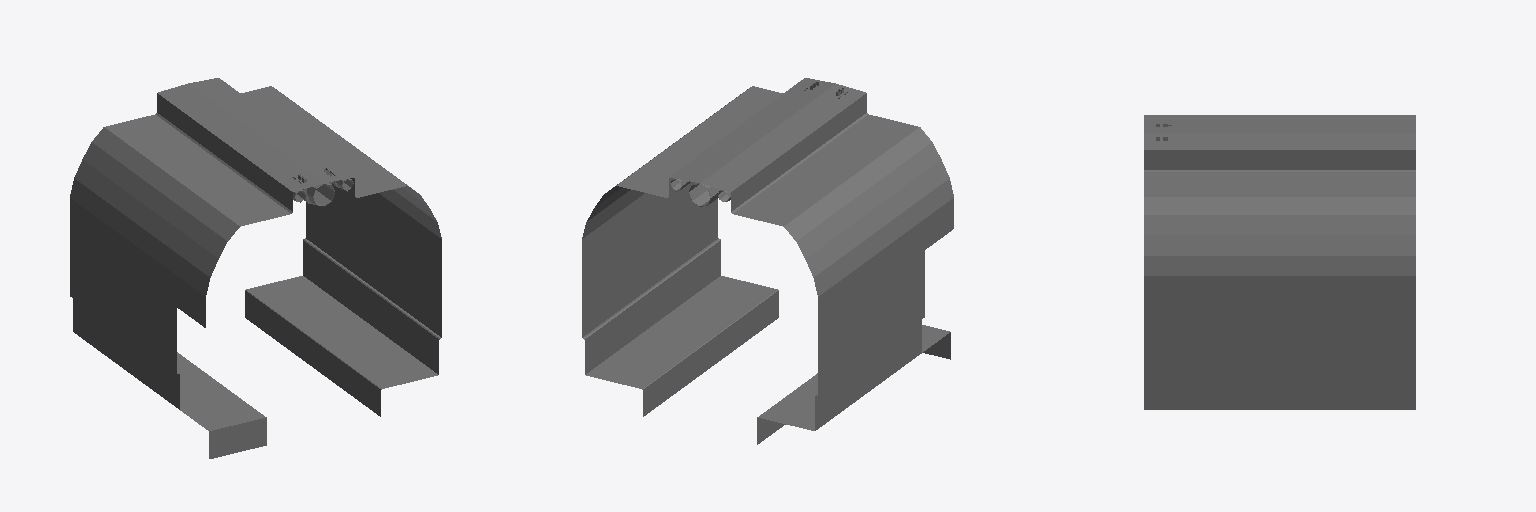
The model's file is ModularSewerStraightDoorHole.obj.
The picture shows the model from 3 angles: view 1: azimuth 30°, elevation 25°; view 2: azimuth 150°, elevation 25°; view 3: azimuth 270°, elevation 25°; orthographic projection.
Parts seen in each view (by area): view 1: ModularSewerStraight:polySurface96 ModularSewerStraight:polySurf, ModularSewerStraight1:polySurface96 ModularSewerStraight1:polySu, ModularSewerStraight:polySurface311, ModularSewerStraight:polySurface310 ModularSewerStraight:polySur; view 2: ModularSewerStraight:polySurface96 ModularSewerStraight:polySurf, ModularSewerStraight1:polySurface96 ModularSewerStraight1:polySu, ModularSewerStraight:polySurface310 ModularSewerStraight:polySur; view 3: ModularSewerStraight1:polySurface96 ModularSewerStraight1:polySu, ModularSewerStraight:polySurface96 ModularSewerStraight:polySurf.
Boxes of the visible parts, <box> form: ModularSewerStraight:polySurface96 ModularSewerStraight:polySurf: <box>70,78,354,430</box>; ModularSewerStraight1:polySurface96 ModularSewerStraight1:polySu: <box>241,86,441,416</box>; ModularSewerStraight:polySurface311: <box>209,417,266,458</box>; ModularSewerStraight:polySurface310 ModularSewerStraight:polySur: <box>292,168,353,206</box>; ModularSewerStraight:polySurface96 ModularSewerStraight:polySurf: <box>669,78,953,444</box>; ModularSewerStraight1:polySurface96 ModularSewerStraight1:polySu: <box>582,86,782,416</box>; ModularSewerStraight:polySurface310 ModularSewerStraight:polySur: <box>671,82,847,206</box>; ModularSewerStraight1:polySurface96 ModularSewerStraight1:polySu: <box>1144,150,1415,409</box>; ModularSewerStraight:polySurface96 ModularSewerStraight:polySurf: <box>1144,115,1415,149</box>.
Bounding box in the file's own units: 5.83 × 5.93 × 5.83.